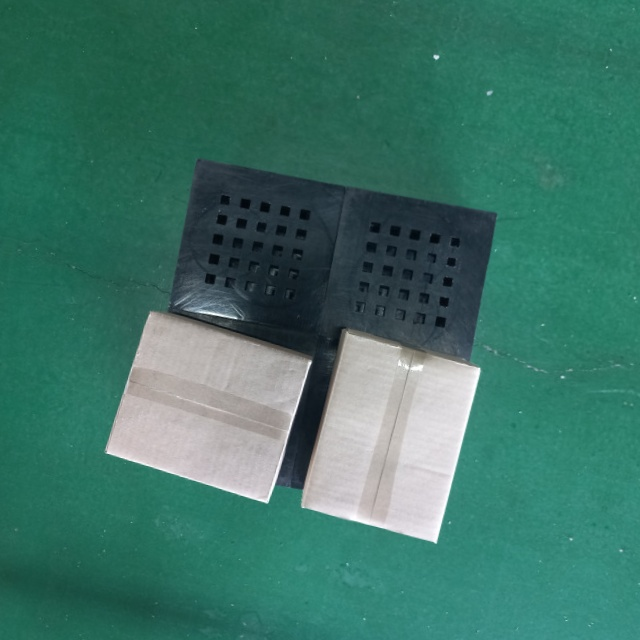box: (101, 304, 318, 506), (302, 327, 483, 549)
